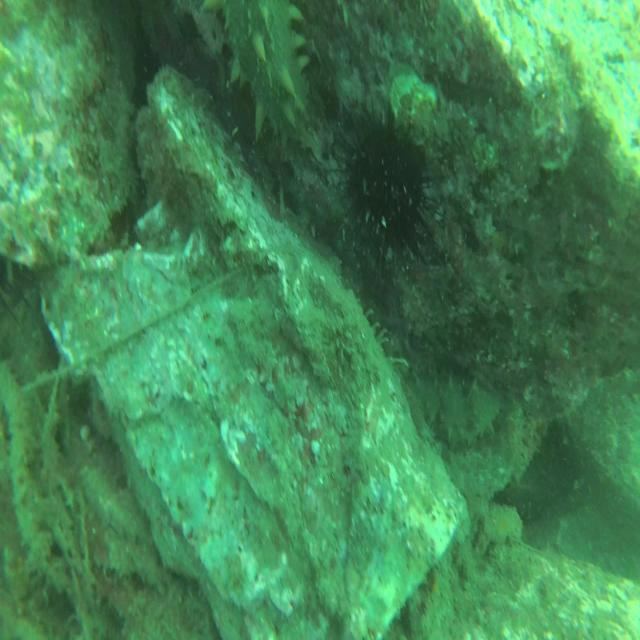echinus: (330, 104, 444, 286)
holothurian: (202, 0, 312, 157), (401, 365, 505, 450)
